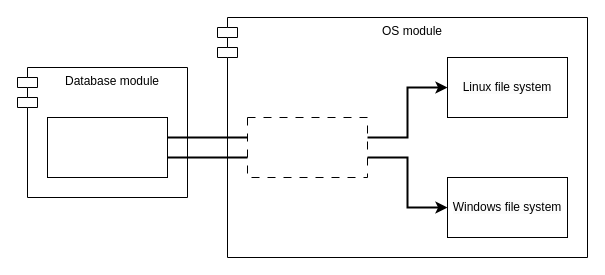
The diagram is 605 pixels wide and 275 high, and some of its shapes have lost their labels. The shapes that lost their labels are listed below. From the top down, each one's centre as x and y in pixels, then its label:
the point at 107,147: Database
the point at 307,147: File system abstraction
